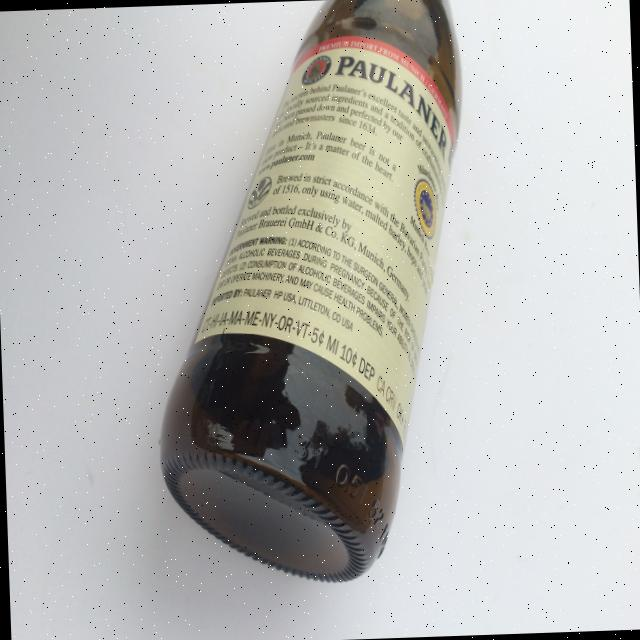glass: (142, 0, 477, 589)
